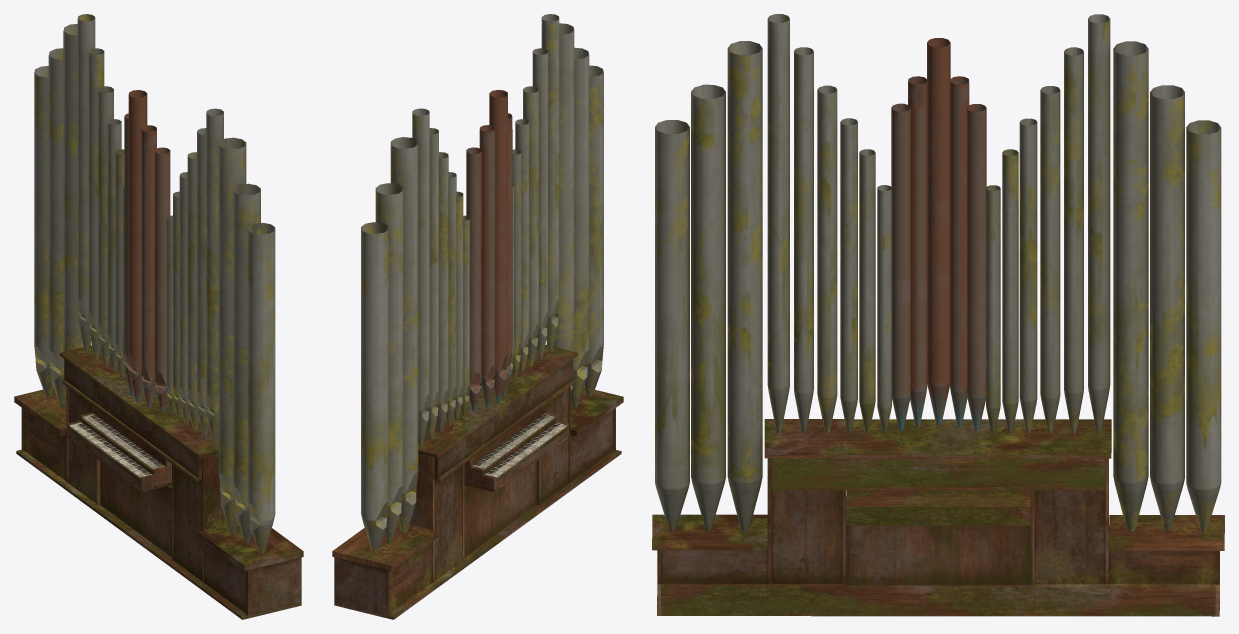
The model's file is organ.glb.
3 views of the same model, side by side, from view 1: azimuth 30°, elevation 25°; view 2: azimuth 150°, elevation 25°; view 3: azimuth 270°, elevation 25° (orthographic). The views are drawn at different scales.
Parts seen in each view (by area): view 1: Orgue_GrosTube.003, Orgue_GrosTube.005, Orgue_GrosTube.004, Orgue_GrosTube.001, Orgue_GrosTube.002, Orgue_GrosTube, Orgue_GrosTube.028, Orgue_GrosTube.038, Orgue_GrosTube.044, Orgue_GrosTube.029, Orgue_GrosTube.012, Orgue_GrosTube.030 (+25 smaller); view 2: Orgue_GrosTube, Orgue_GrosTube.002, Orgue_GrosTube.001, Orgue_GrosTube.004, Orgue_GrosTube.005, Orgue_GrosTube.003, Orgue_GrosTube.028, Orgue_GrosTube.038, Orgue_GrosTube.044, Orgue_GrosTube.031, Orgue_GrosTube.012, Orgue_GrosTube.017 (+24 smaller); view 3: Orgue_GrosTube.009, Orgue_GrosTube.002, Orgue_GrosTube.005, Orgue_GrosTube.001, Orgue_GrosTube.004, Orgue_GrosTube, Orgue_GrosTube.003, Orgue_GrosTube.012, Orgue_GrosTube.017, Orgue_GrosTube.022, Orgue_GrosTube.044, Orgue_GrosTube.038 (+23 smaller).
Boxes of the visible parts, <box> form: Orgue_GrosTube.003: <box>247,223,275,554</box>; Orgue_GrosTube.005: <box>218,137,246,533</box>; Orgue_GrosTube.004: <box>233,183,260,543</box>; Orgue_GrosTube.001: <box>48,48,66,407</box>; Orgue_GrosTube.002: <box>63,24,90,390</box>; Orgue_GrosTube: <box>34,66,53,397</box>; Orgue_GrosTube.028: <box>128,90,147,402</box>; Orgue_GrosTube.038: <box>206,108,223,446</box>; Orgue_GrosTube.044: <box>77,14,95,351</box>; Orgue_GrosTube.029: <box>141,125,156,407</box>; Orgue_GrosTube.012: <box>59,345,218,458</box>; Orgue_GrosTube.030: <box>154,147,170,411</box>; Orgue_GrosTube: <box>361,222,388,554</box>; Orgue_GrosTube.002: <box>390,137,418,532</box>; Orgue_GrosTube.001: <box>375,183,403,543</box>; Orgue_GrosTube.004: <box>571,47,589,407</box>; Orgue_GrosTube.005: <box>546,23,574,392</box>; Orgue_GrosTube.003: <box>584,65,603,397</box>; Orgue_GrosTube.028: <box>489,90,507,402</box>; Orgue_GrosTube.038: <box>541,14,559,352</box>; Orgue_GrosTube.044: <box>412,108,429,446</box>; Orgue_GrosTube.031: <box>479,125,495,408</box>; Orgue_GrosTube.012: <box>418,345,577,457</box>; Orgue_GrosTube.017: <box>464,461,536,557</box>; Orgue_GrosTube.009: <box>657,583,1219,616</box>; Orgue_GrosTube.002: <box>1113,41,1148,531</box>; Orgue_GrosTube.005: <box>727,41,762,531</box>; Orgue_GrosTube.001: <box>1150,85,1184,531</box>; Orgue_GrosTube.004: <box>691,84,725,530</box>; Orgue_GrosTube: <box>1186,120,1221,531</box>; Orgue_GrosTube.003: <box>655,120,689,531</box>; Orgue_GrosTube.012: <box>764,419,1111,458</box>; Orgue_GrosTube.017: <box>845,501,1032,585</box>; Orgue_GrosTube.022: <box>772,458,1105,490</box>; Orgue_GrosTube.044: <box>1088,14,1110,433</box>; Orgue_GrosTube.038: <box>767,14,789,433</box>.
Bounding box in the file's own units: 2.8 × 14.73 × 13.22.
1 material, 1 textured.
